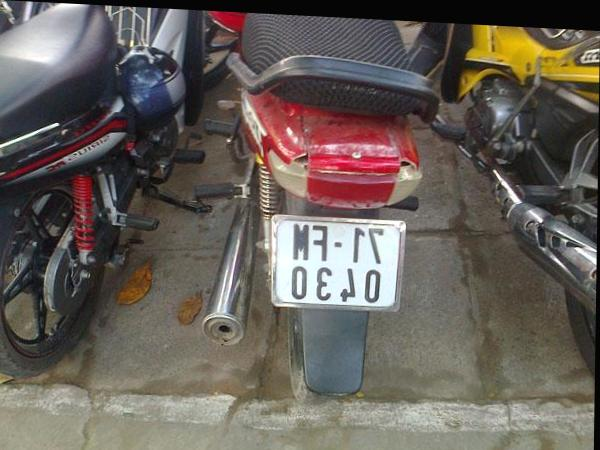License_Plate: (276, 219, 401, 309)
